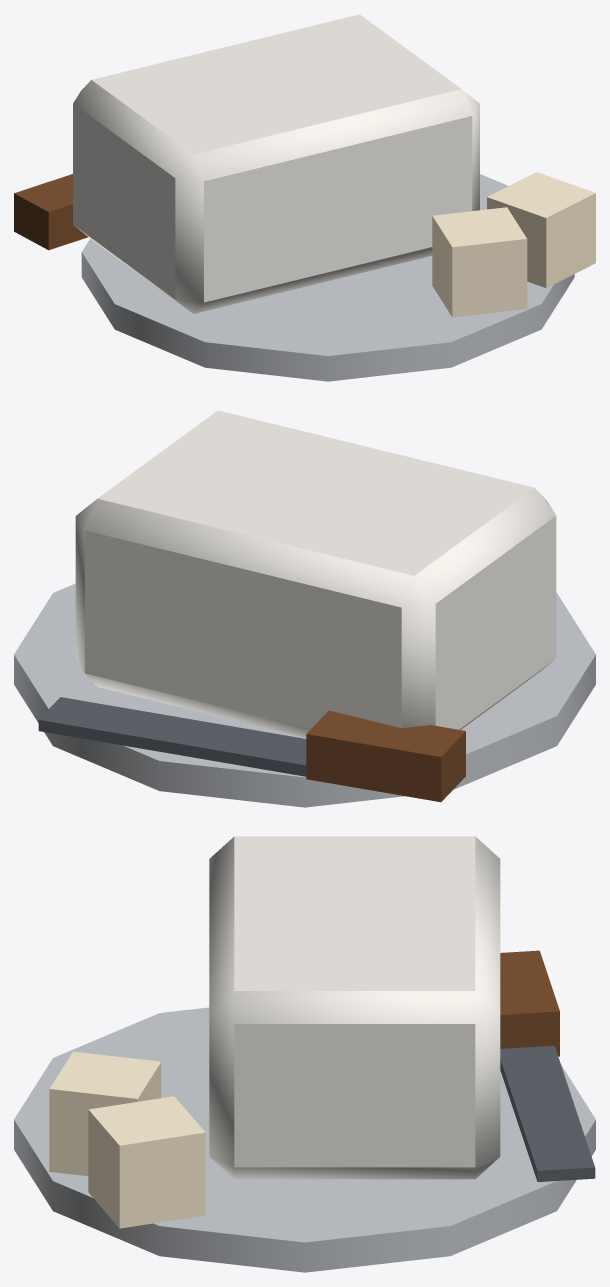
File: prop_paneer_block.glb
The picture shows the model from 3 angles, top to bottom: view 1: azimuth 30°, elevation 25°; view 2: azimuth 150°, elevation 25°; view 3: azimuth 270°, elevation 25°; orthographic projection. The views are drawn at different scales.
Visible parts, largest first — view 1: prop_paneer_block; view 2: prop_paneer_block; view 3: prop_paneer_block.
Part boxes in pixels (<box>): prop_paneer_block: <box>14,14,595,381</box>; prop_paneer_block: <box>14,410,595,807</box>; prop_paneer_block: <box>14,836,595,1272</box>.
Bounding box in the file's own units: 0.1404 × 0.058 × 0.14.
1 material, 1 textured.
